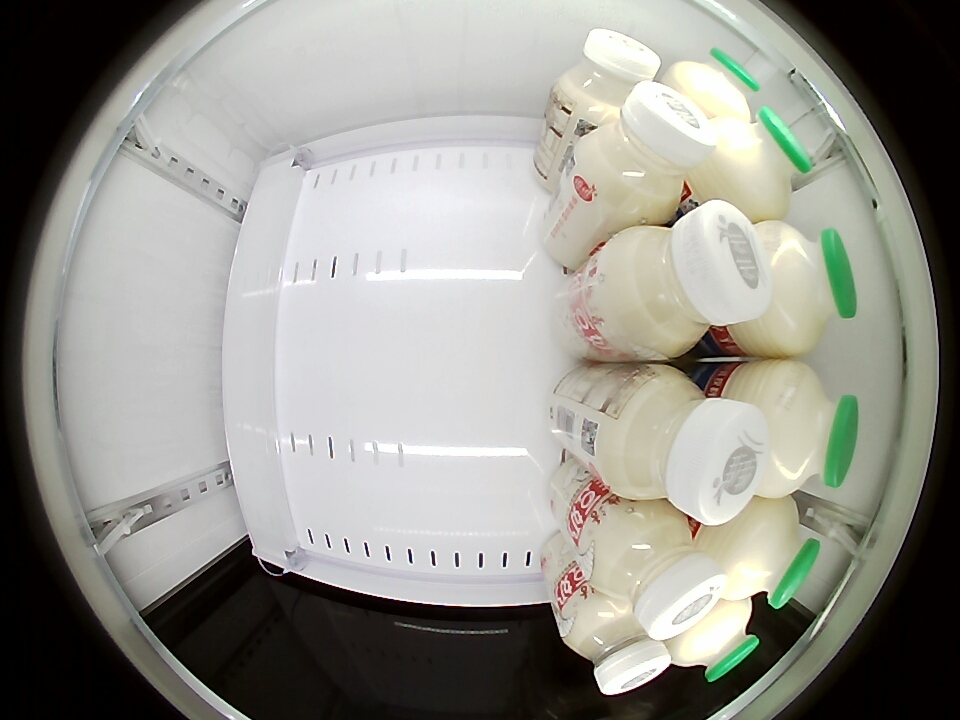liziyuan: (735, 360, 862, 496), (738, 221, 860, 357), (703, 496, 823, 610), (688, 108, 811, 219), (670, 595, 760, 682), (666, 50, 760, 130)
weiweidounai: (603, 366, 767, 526), (606, 200, 769, 359), (572, 82, 715, 222), (588, 504, 724, 638), (561, 596, 671, 696), (555, 28, 662, 121)
